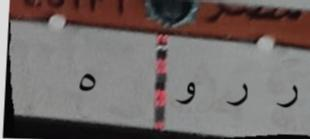5: (71, 66, 103, 98)
raa: (271, 82, 303, 114), (225, 77, 251, 110)
waw: (174, 76, 198, 113)
